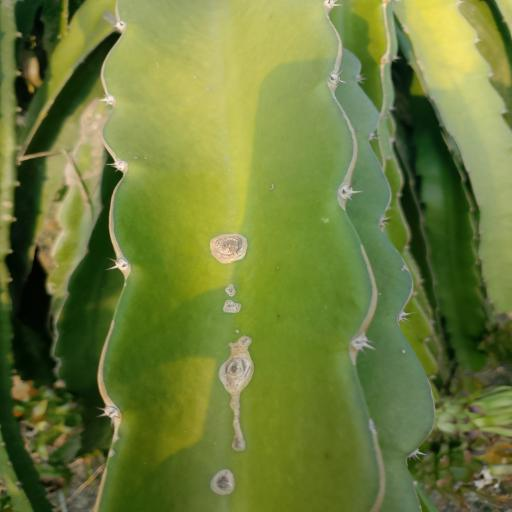stemcanker: (206, 284, 259, 322), (250, 168, 287, 202), (220, 283, 248, 319), (270, 253, 295, 284), (131, 155, 163, 173), (263, 177, 284, 203), (271, 311, 290, 332), (104, 448, 122, 467), (400, 346, 418, 364), (396, 258, 414, 276), (372, 288, 388, 307), (230, 327, 251, 340), (118, 280, 138, 293), (372, 288, 394, 299), (271, 310, 287, 324), (131, 154, 153, 164), (109, 432, 124, 446), (191, 70, 202, 86), (201, 84, 215, 96), (399, 346, 411, 360), (270, 264, 285, 274), (230, 327, 242, 338)
